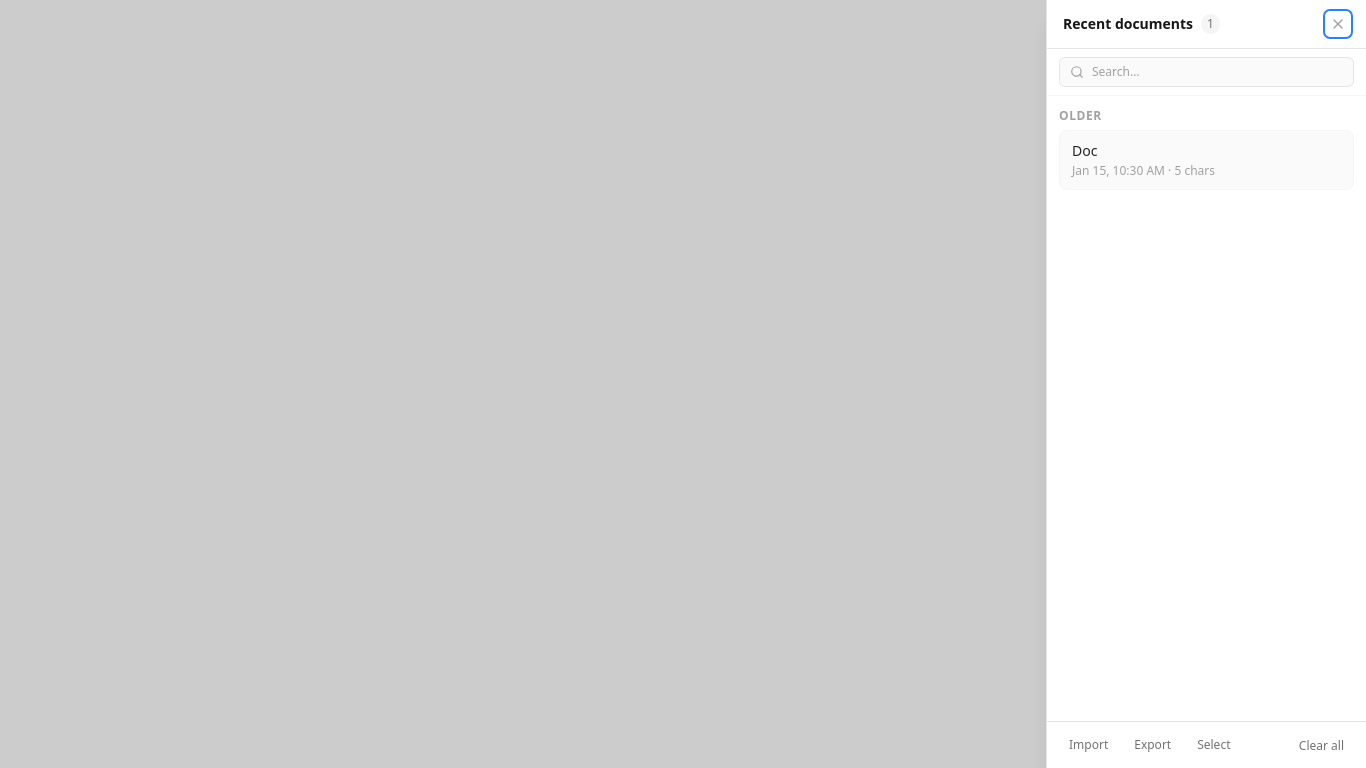
Test: HistorySidebar — clear confirmation › shows a confirmation prompt when Clear all is clicked
Click the button "Clear all".
click(1321, 746)  # box [1289,734,1354,758]
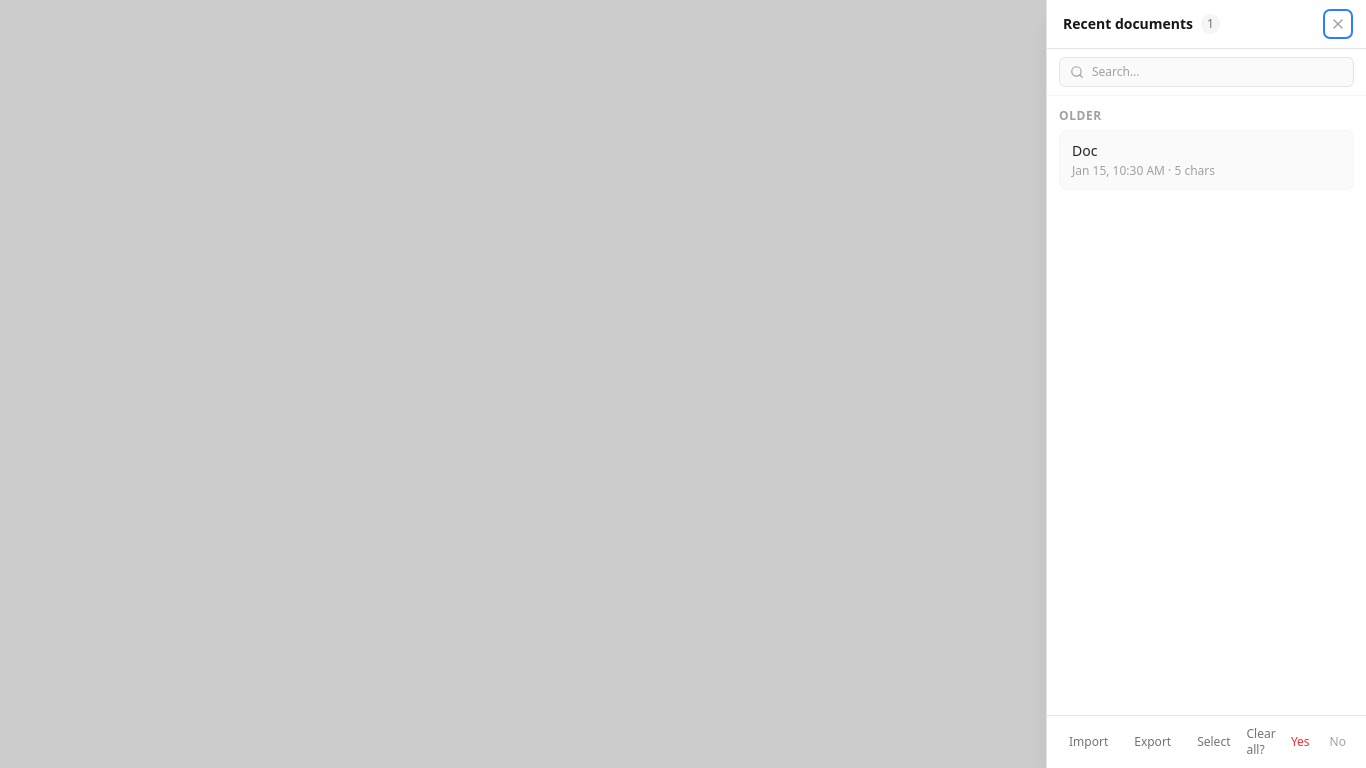
Now the text "Clear all?" is shown, box [1246,726,1279,758]
Now the button "Yes" is shown, box [1283,732,1318,752]
Now the button "No" is shown, box [1322,732,1354,752]
